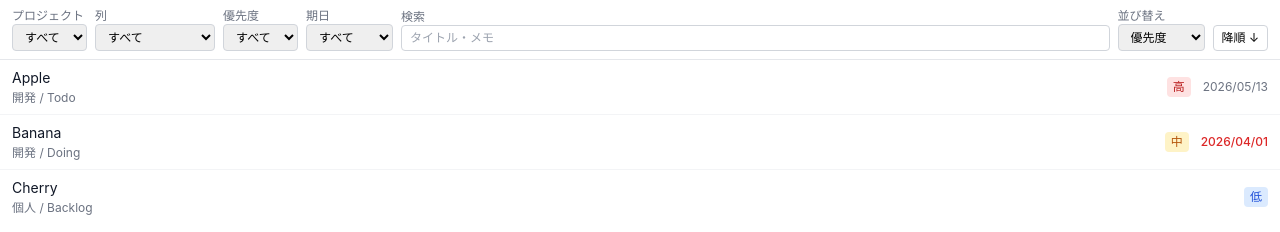
Scenario: AllTasksView › プロジェクトフィルタで絞り込み
The width and height of the screenshot is (1280, 232).
Select "個人" in the dropdown labelled "プロジェクト". click: (50, 38)
box: x1=12 y1=24 x2=87 y2=51
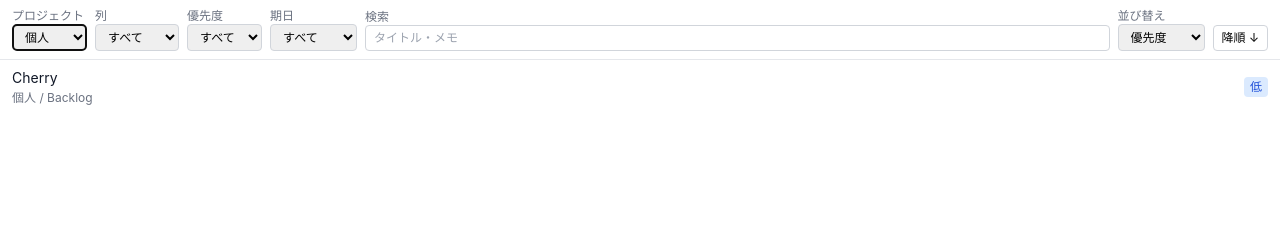
Expected: the text "Cherry" is shown, x1=12 y1=69 x2=58 y2=86
Result: the text "Apple" is gone
Result: the text "Banana" is gone
